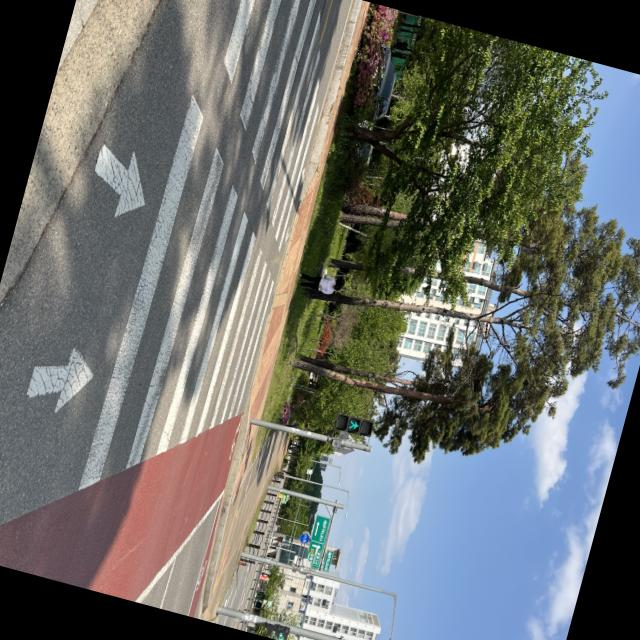green_light: (330, 411, 370, 443)
zebra: (0, 0, 376, 548)
